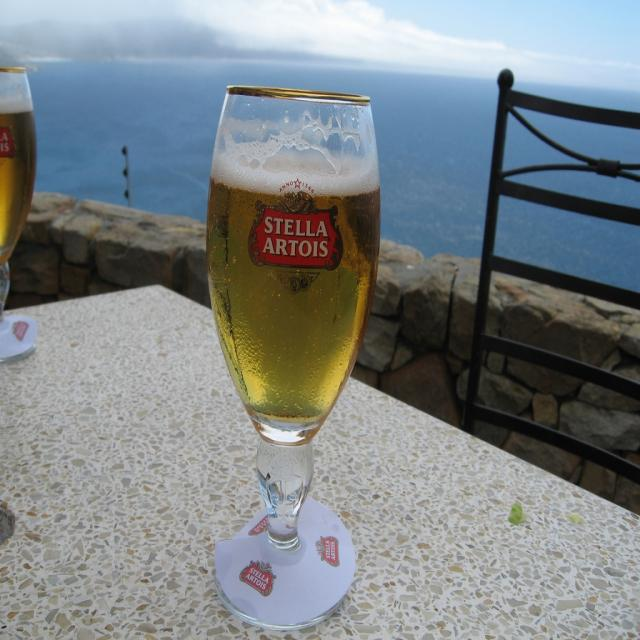stellaartois: (246, 179, 351, 298)
